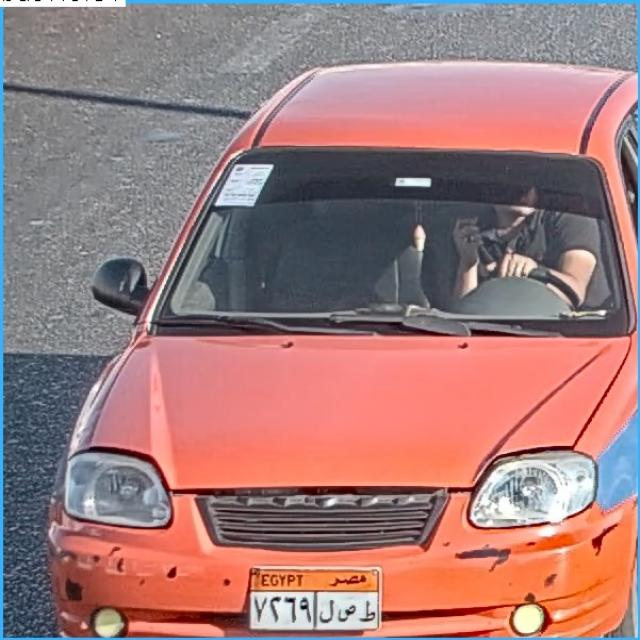windshield: (160, 149, 624, 331)
